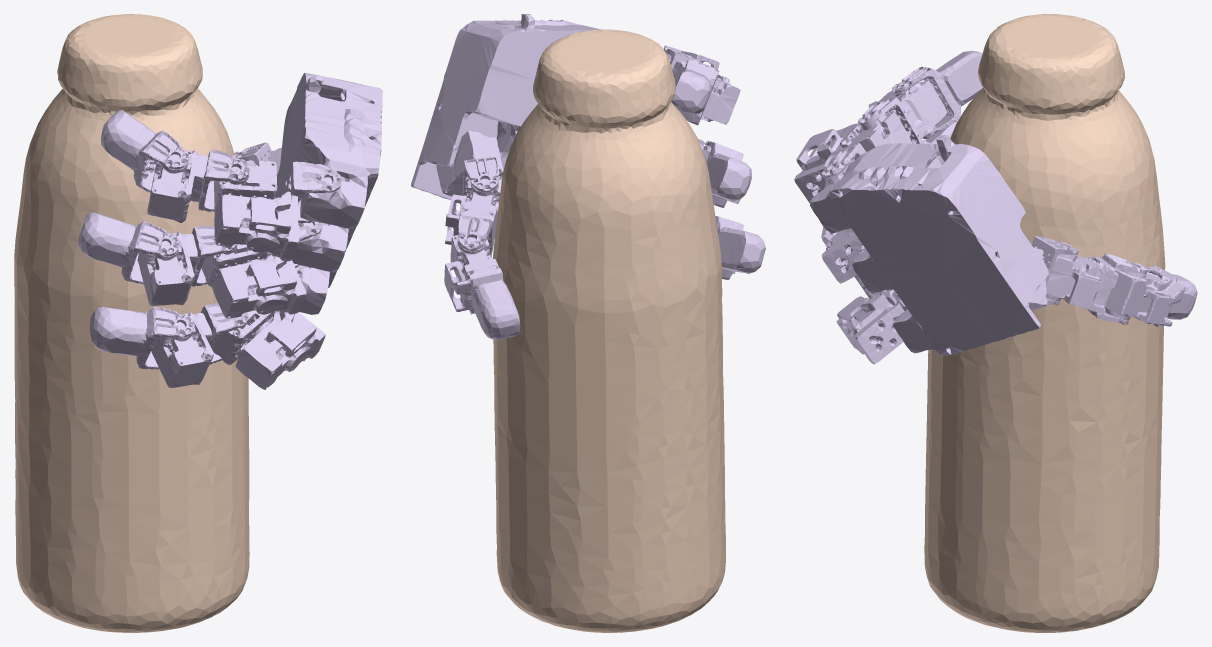
3 views of the same model, side by side, from view 1: azimuth 30°, elevation 25°; view 2: azimuth 150°, elevation 25°; view 3: azimuth 270°, elevation 25° (orthographic). The views are drawn at different scales.
Parts seen in each view (by area): view 1: world, LEAP_hand; view 2: world, LEAP_hand; view 3: world, LEAP_hand.
Part boxes in pixels (x1,y1,x2,y2): world: [14, 14, 249, 632]; LEAP_hand: [78, 73, 382, 389]; world: [492, 29, 725, 632]; LEAP_hand: [411, 14, 765, 339]; world: [924, 14, 1165, 632]; LEAP_hand: [794, 50, 1197, 364].
Bounding box in the file's own units: 0.207 × 0.3595 × 0.2342.
